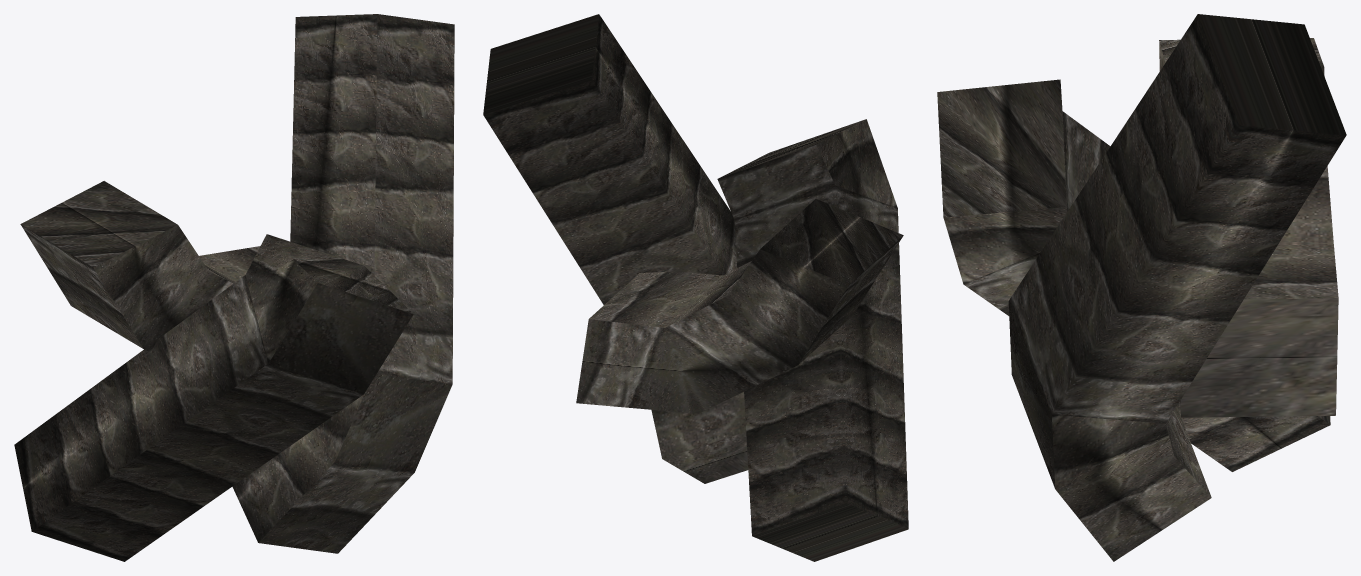
The model's file is gate-destr_04.obj.
The picture shows the model from 3 angles, left to right: view 1: azimuth 30°, elevation 25°; view 2: azimuth 150°, elevation 25°; view 3: azimuth 270°, elevation 25°; orthographic projection. The views are drawn at different scales.
Visible parts, largest first — view 1: (null); view 2: (null); view 3: (null).
Part boxes in pixels (box(x1,y1,x2,y2)): (null): box(14, 14, 454, 561); (null): box(483, 14, 908, 561); (null): box(937, 14, 1346, 561).
Bounding box in the file's own units: 3.43 × 3.83 × 2.38.
